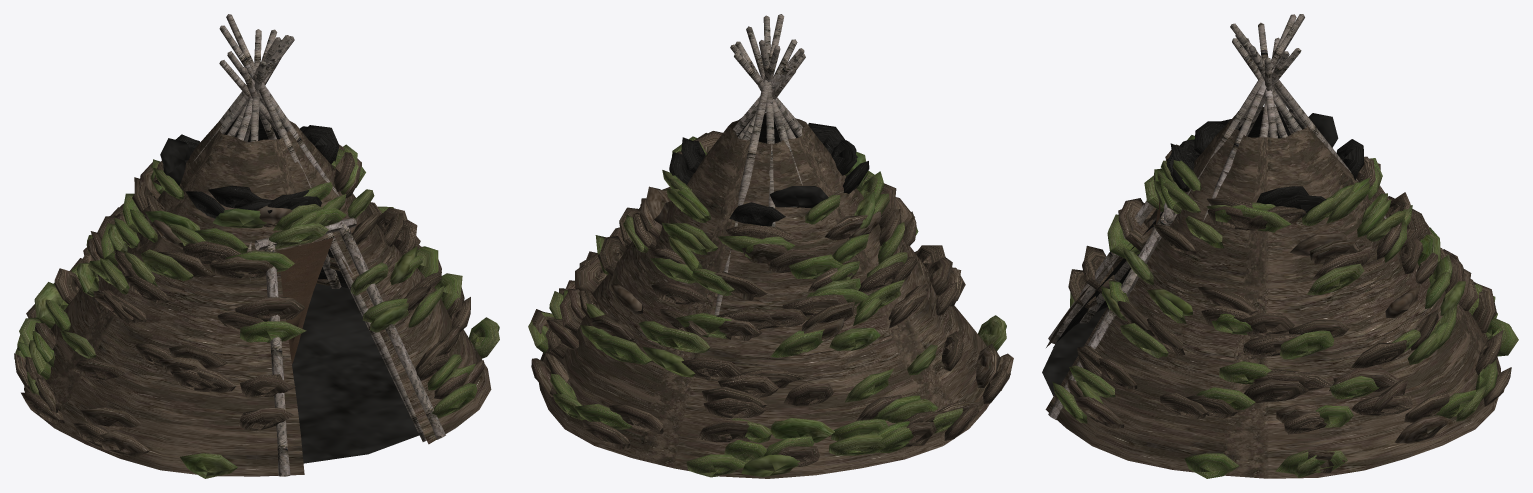
The model's file is kit_tw_collier_hut.glb.
3 views of the same model, side by side, from view 1: azimuth 30°, elevation 25°; view 2: azimuth 150°, elevation 25°; view 3: azimuth 270°, elevation 25° (orthographic).
Visible parts, largest first — view 1: kit_tw_collier_hut; view 2: kit_tw_collier_hut; view 3: kit_tw_collier_hut.
Boxes of the visible parts, x1,y1,x2,y2 form: kit_tw_collier_hut: (14,14,499,478); kit_tw_collier_hut: (528,14,1013,478); kit_tw_collier_hut: (1042,14,1518,478).
Size of the model in its own units: 4.19 by 3.35 by 3.96.
Materials: 1 (1 with a texture image).
